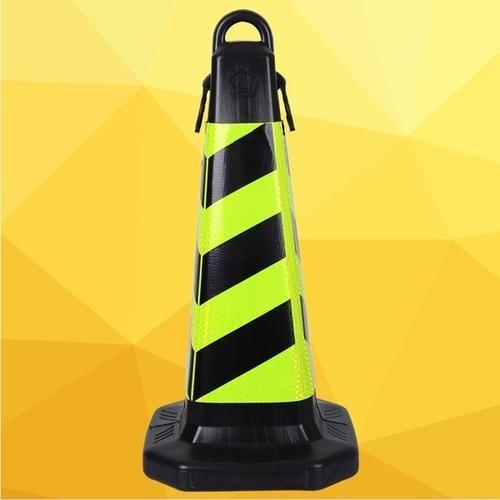cone_barrel: (143, 3, 359, 483)
